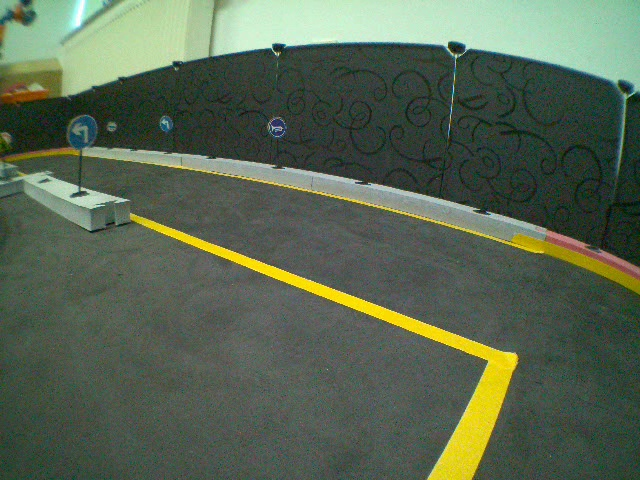Check: (105, 120, 122, 134)
horn: (264, 114, 290, 140)
turn: (63, 115, 102, 150), (160, 114, 177, 133)
